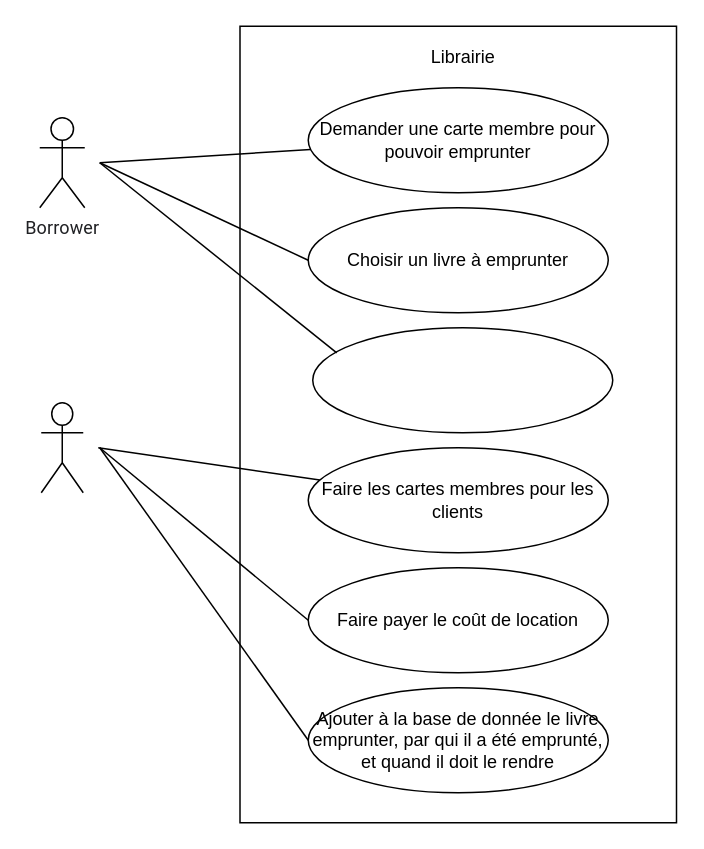
This 704x849 diagram has some shape labels left out. Here are the shapes that lost their labels. From the top down, the centre of each, then its label:
At point (462, 379): "Payer le coût de location".
At point (61, 447): "Librarian".
